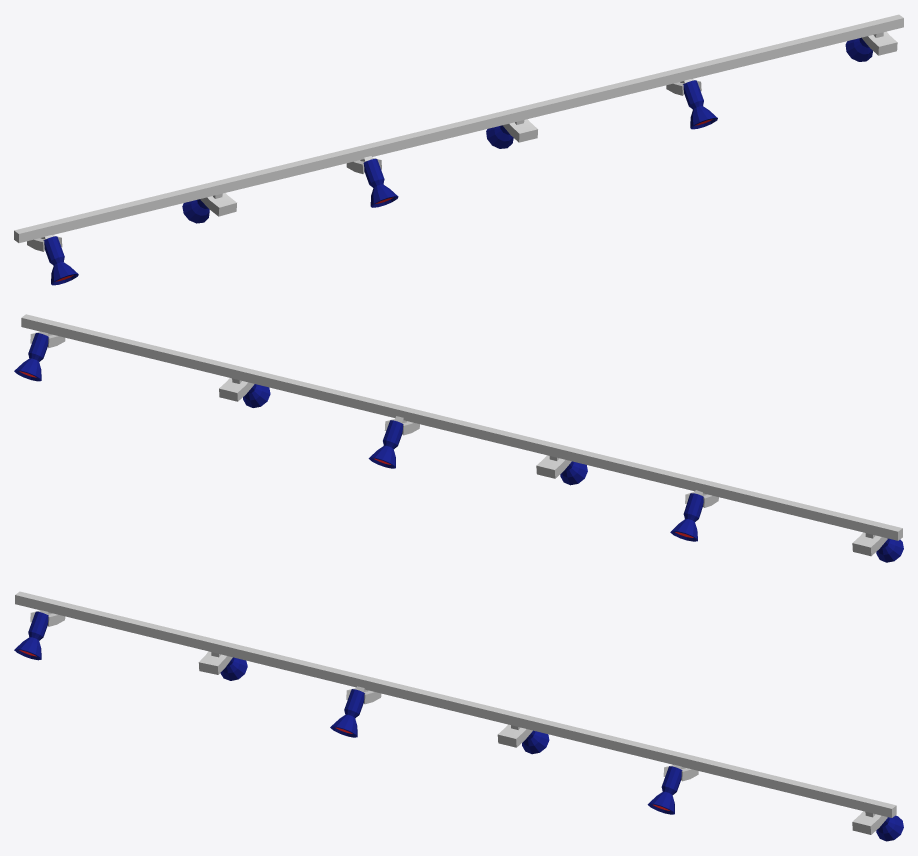
Rendered from Upphangning_lampa_ovanfor_scendelen.fbx.
3 views of the same model, one above another, from view 1: azimuth 30°, elevation 25°; view 2: azimuth 150°, elevation 25°; view 3: azimuth 330°, elevation 25° (orthographic).
Visible parts, largest first — view 1: pCube1, pCylinder7, pCylinder8, pCylinder4, pCube6, pCube4; view 2: pCube1, pCylinder5, pCylinder3, pCylinder9, pCube9, pCube8, pCube5; view 3: pCube1, pCylinder8, pCylinder4, pCylinder7, pCube6, pCube10, pCube4.
Boxes of the visible parts, x1,y1,x2,y2 form: pCube1: [14, 14, 903, 242]; pCylinder7: [683, 80, 717, 129]; pCylinder8: [43, 236, 78, 285]; pCylinder4: [363, 158, 398, 207]; pCube6: [862, 31, 897, 55]; pCube4: [200, 193, 236, 216]; pCube1: [21, 314, 902, 540]; pCylinder5: [14, 333, 48, 381]; pCylinder3: [670, 493, 703, 541]; pCylinder9: [368, 420, 403, 468]; pCube9: [852, 532, 887, 556]; pCube8: [219, 378, 254, 401]; pCube5: [536, 455, 571, 478]; pCube1: [15, 591, 896, 817]; pCylinder8: [14, 611, 48, 660]; pCylinder4: [330, 689, 364, 737]; pCylinder7: [647, 766, 682, 814]; pCube6: [852, 811, 887, 834]; pCube10: [497, 724, 532, 747]; pCube4: [198, 651, 232, 674].
Bounding box in the file's own units: 941 × 50.5 × 92.33.
